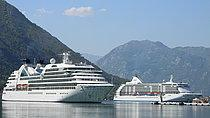Ship: (3, 51, 117, 107), (114, 74, 207, 108)
